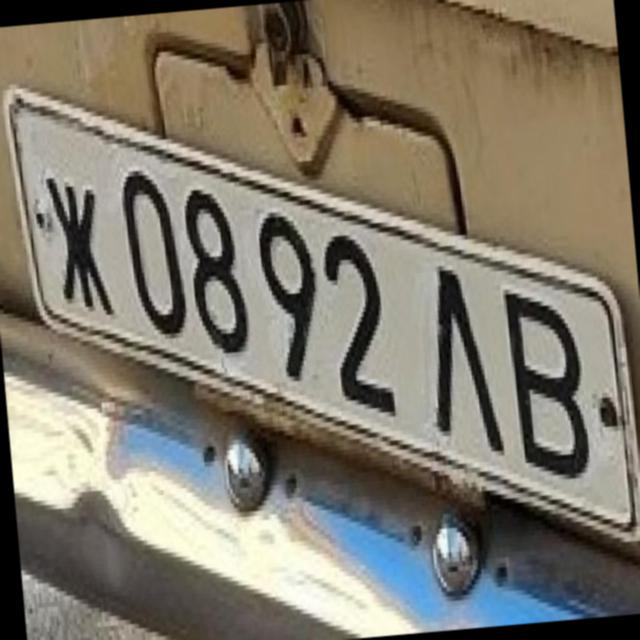0: (100, 152, 190, 342)
2: (309, 212, 400, 422)
8: (166, 166, 256, 362)
9: (240, 189, 330, 389)
A: (404, 237, 508, 458)
B: (485, 262, 601, 484)
X: (29, 159, 116, 316)
